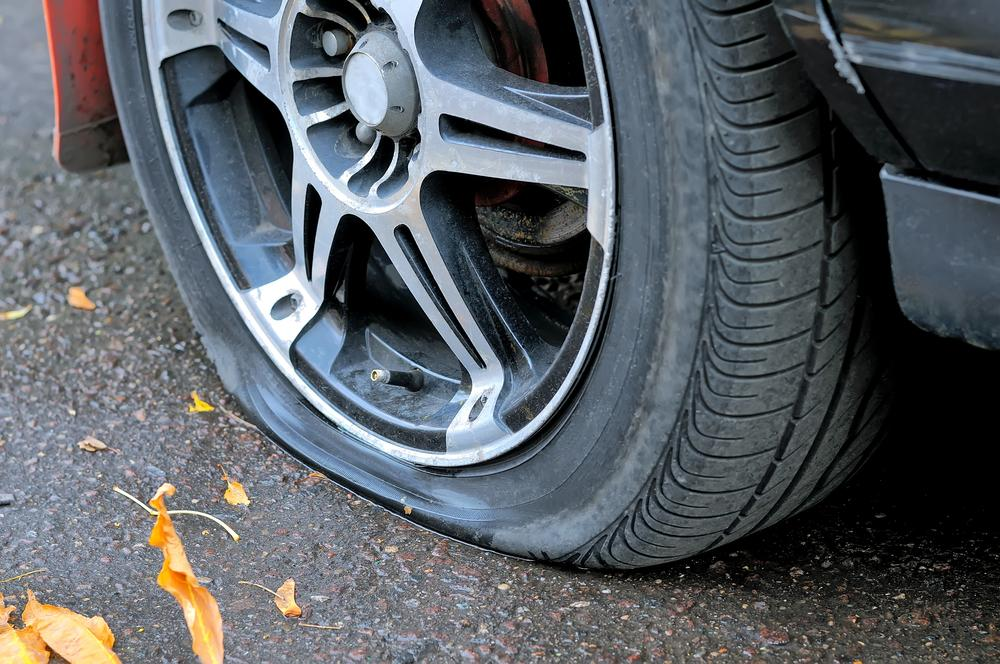tire flat: (99, 0, 899, 569)
